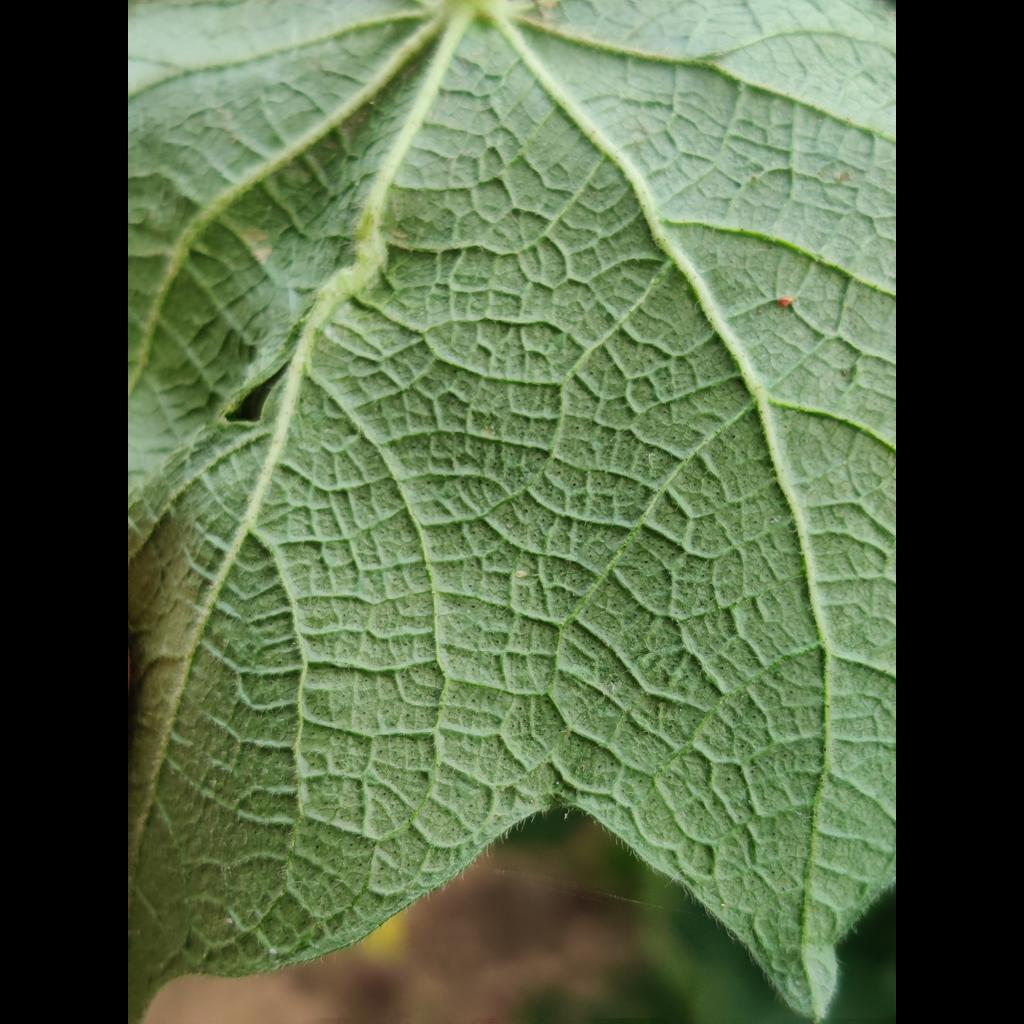nymph: (515, 569, 528, 578), (225, 917, 232, 924), (269, 948, 277, 954)
